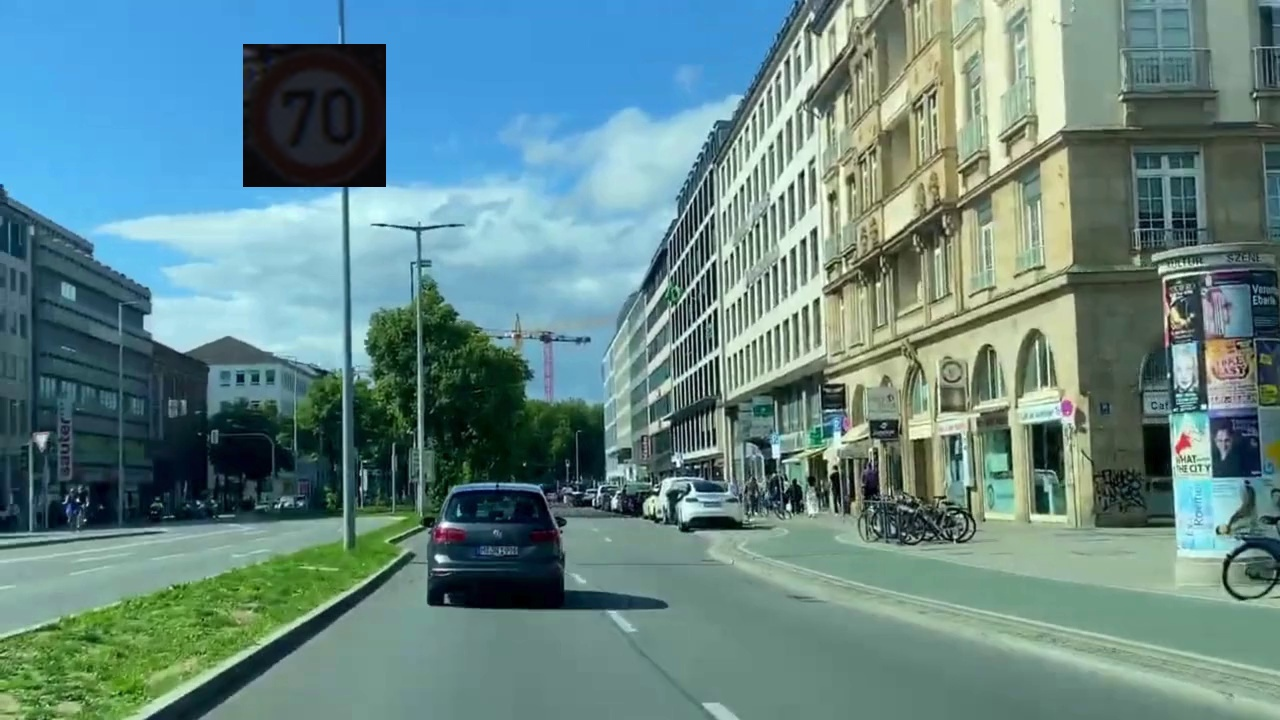Speed 70: (243, 44, 386, 187)
